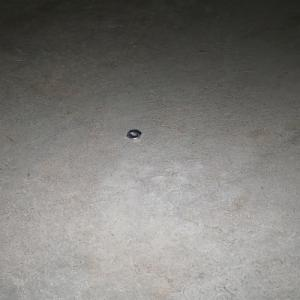Nut: (125, 131, 140, 139)
